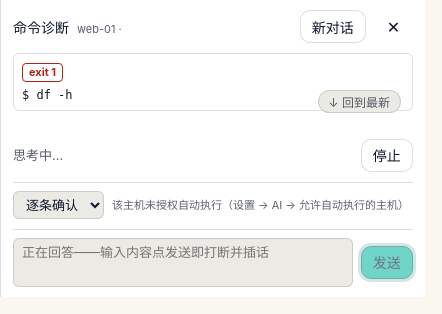
面板渲染 › 活的状态的位置（2026-11-12 回归） › 往上翻后出现「回到最新」，点它回到底部并恢复跟随
Click the button with test id "ai-jump-latest" at point(359, 101), box [318,90,401,113]
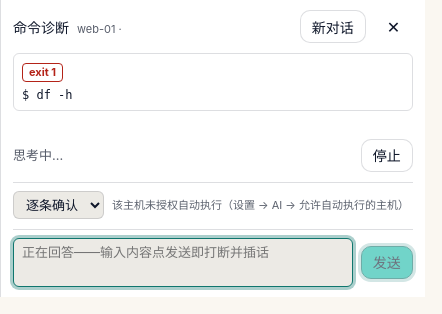
Expected: the button with test id "ai-jump-latest" is gone
